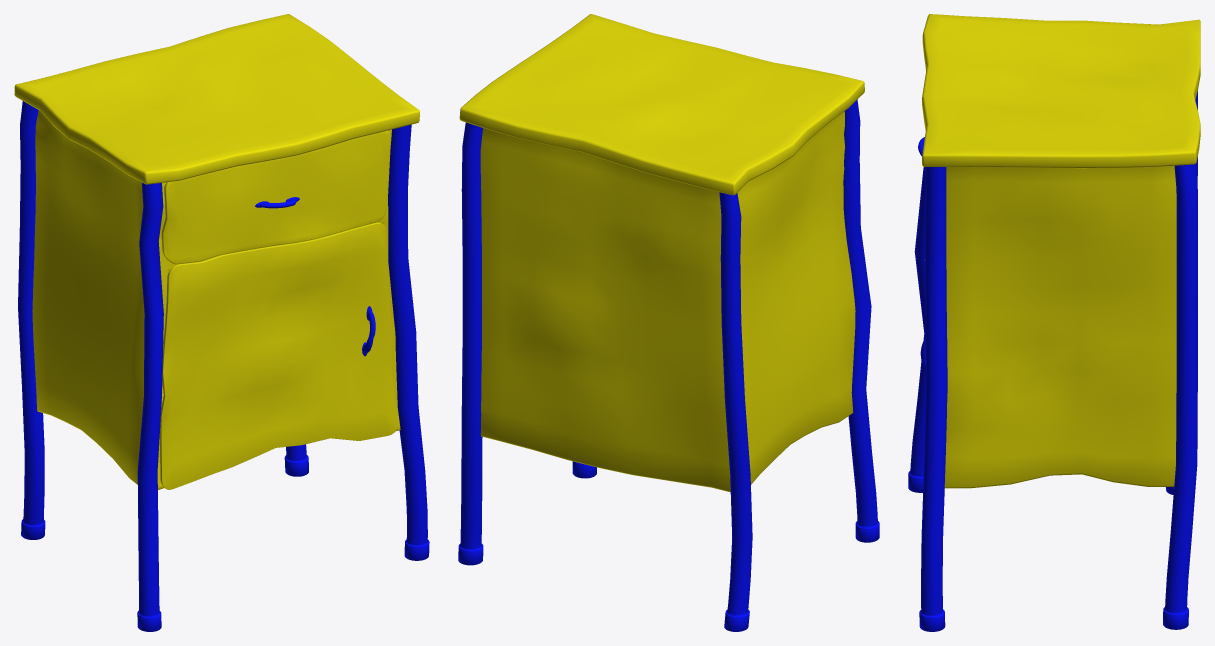
The model's file is TableChevet.fbx.
3 views of the same model, side by side, from view 1: azimuth 30°, elevation 25°; view 2: azimuth 150°, elevation 25°; view 3: azimuth 270°, elevation 25° (orthographic). The views are drawn at different scales.
Visible parts, largest first — view 1: Cube.006; view 2: Cube.006; view 3: Cube.006.
Boxes of the visible parts, box(x1,y1,x2,y2) form: Cube.006: box(14, 14, 429, 631); Cube.006: box(458, 14, 879, 631); Cube.006: box(908, 14, 1200, 631).
Bounding box in the file's own units: 55.3 × 81.4 × 45.47.
